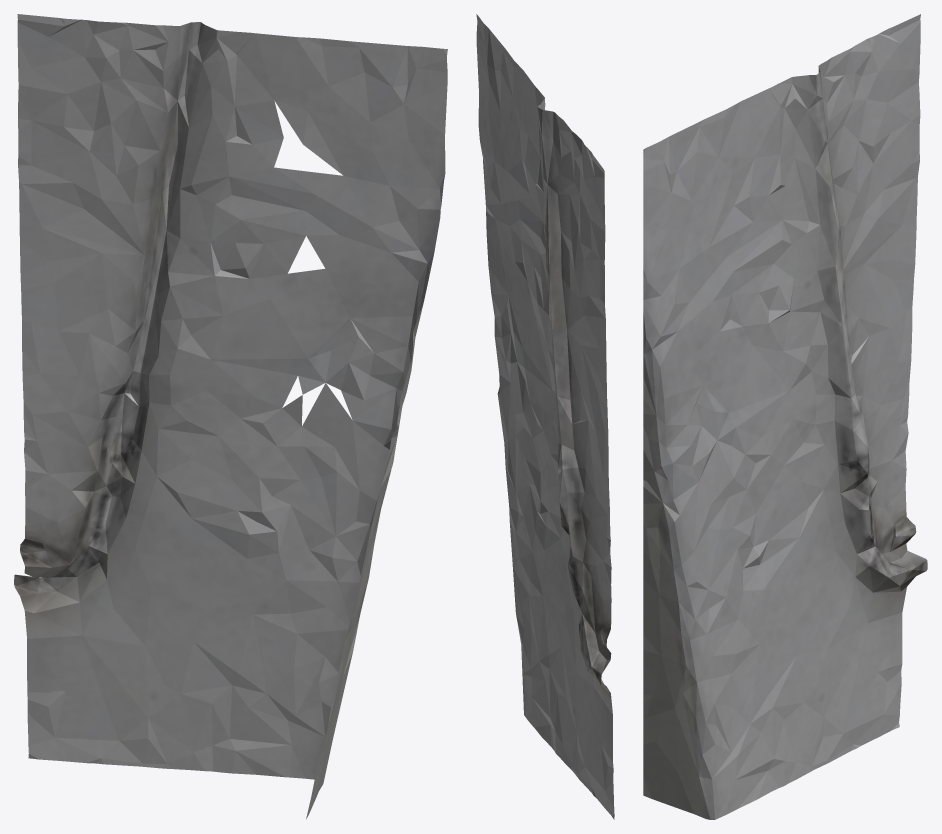
3 views of the same model, side by side, from view 1: azimuth 30°, elevation 25°; view 2: azimuth 150°, elevation 25°; view 3: azimuth 270°, elevation 25° (orthographic). The views are drawn at different scales.
Size of the model in its own units: 0.6831 by 1.67 by 0.6057.
2 materials, 2 textured.
